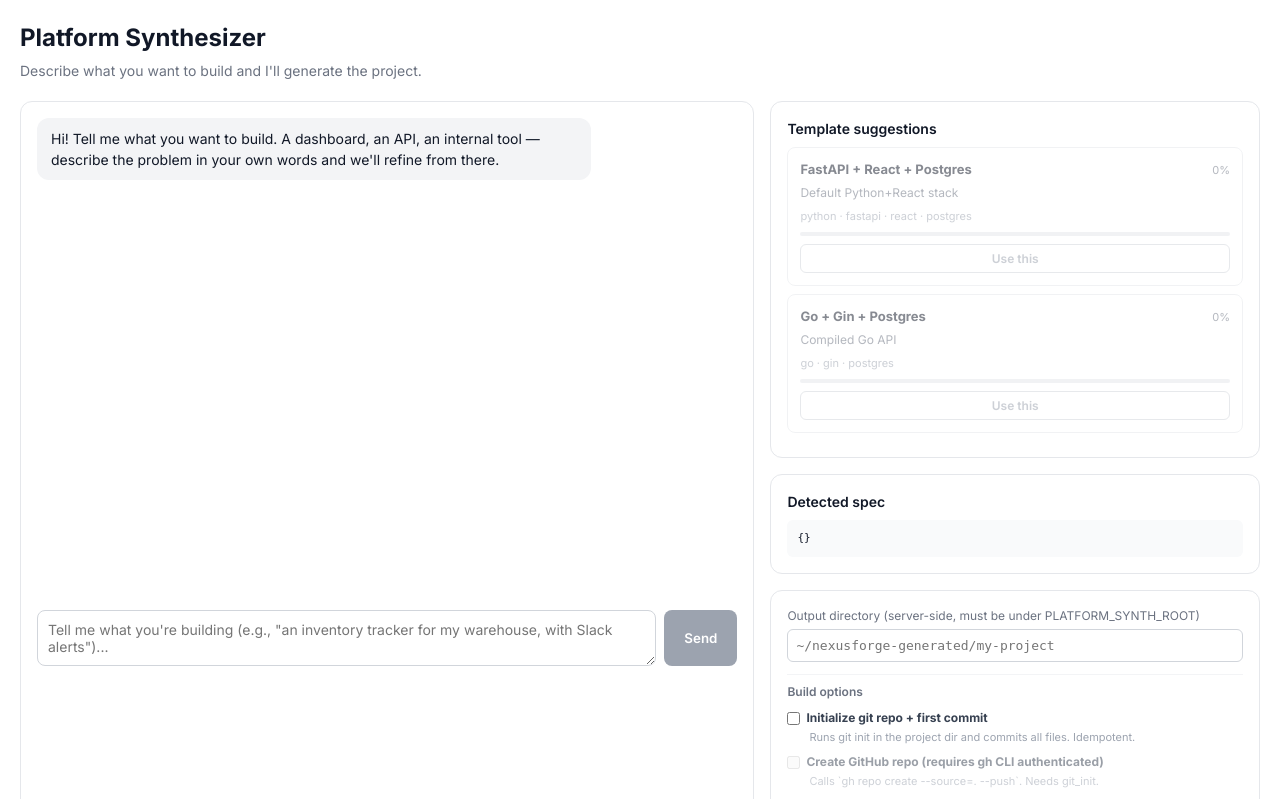
Test: PlatformSynthPage — chat round-trip › sends user message, renders assistant reply, updates spec + suggestions
The image size is (1280, 799).
expect the text "FastAPI + React + Postgres" is shown: met, box x1=800 y1=160 x2=972 y2=180
Replace the text in the text box with placeholder "Tell me what you're building" with "I want a Python dashboard for inventory" at (347, 638), box x1=37 y1=610 x2=656 y2=666
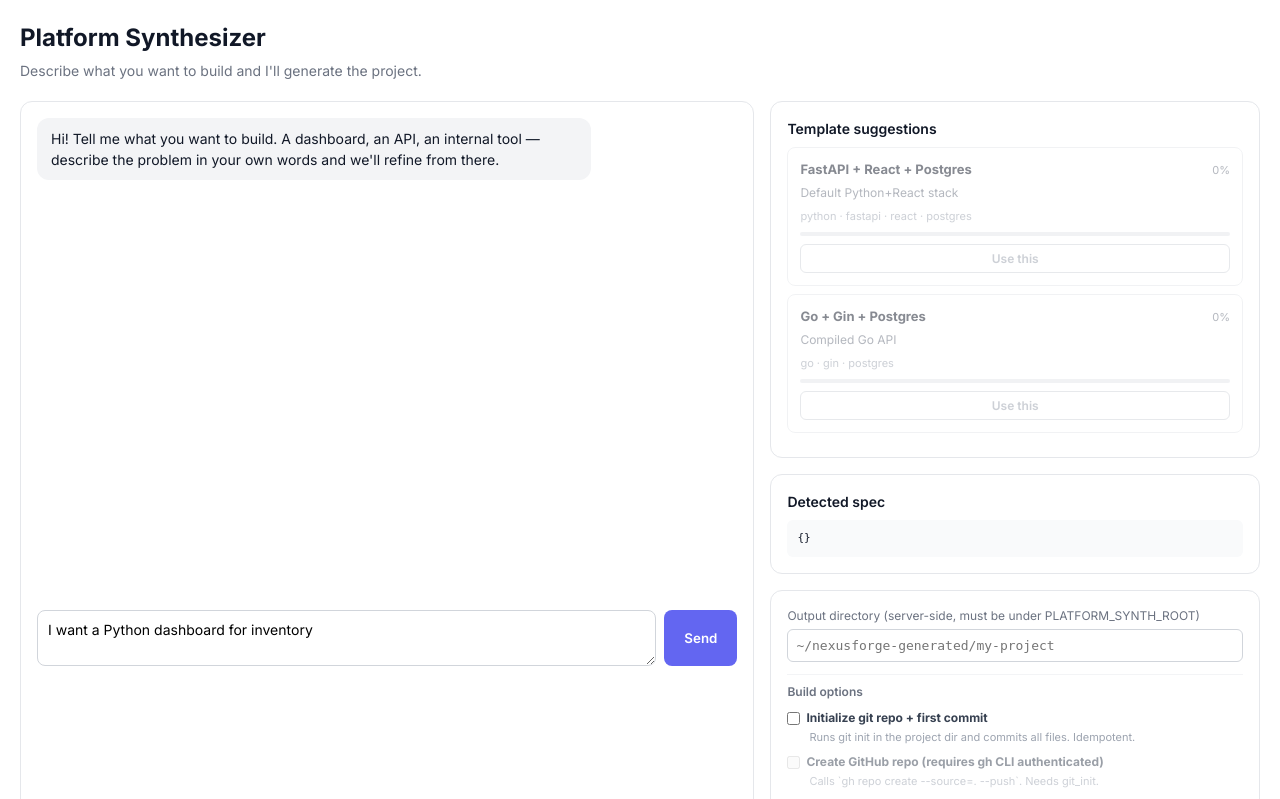
Click the button "Send" at (701, 638), box x1=664 y1=610 x2=737 y2=666
(page scrolled)
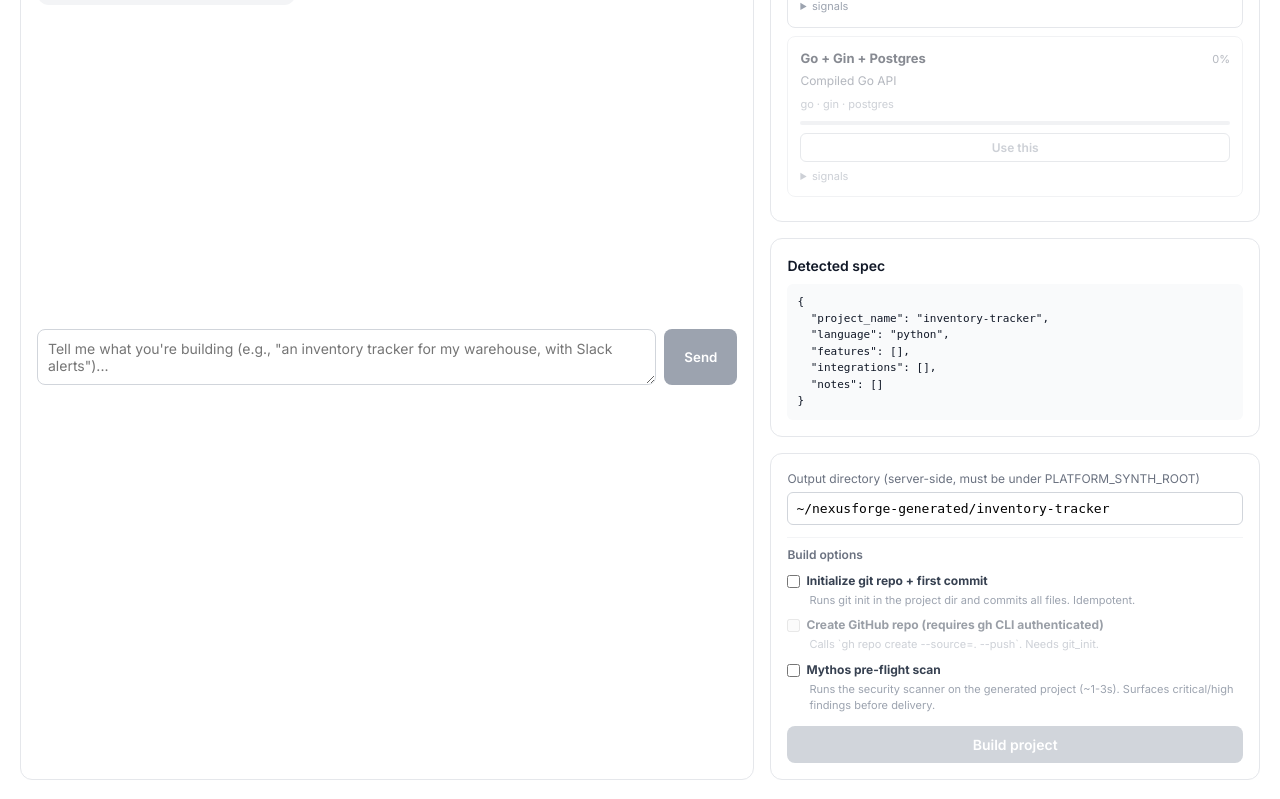
expect the text "\"project_name\": \"inventory-tracker\"" is shown: met, box x1=797 y1=295 x2=1049 y2=407
